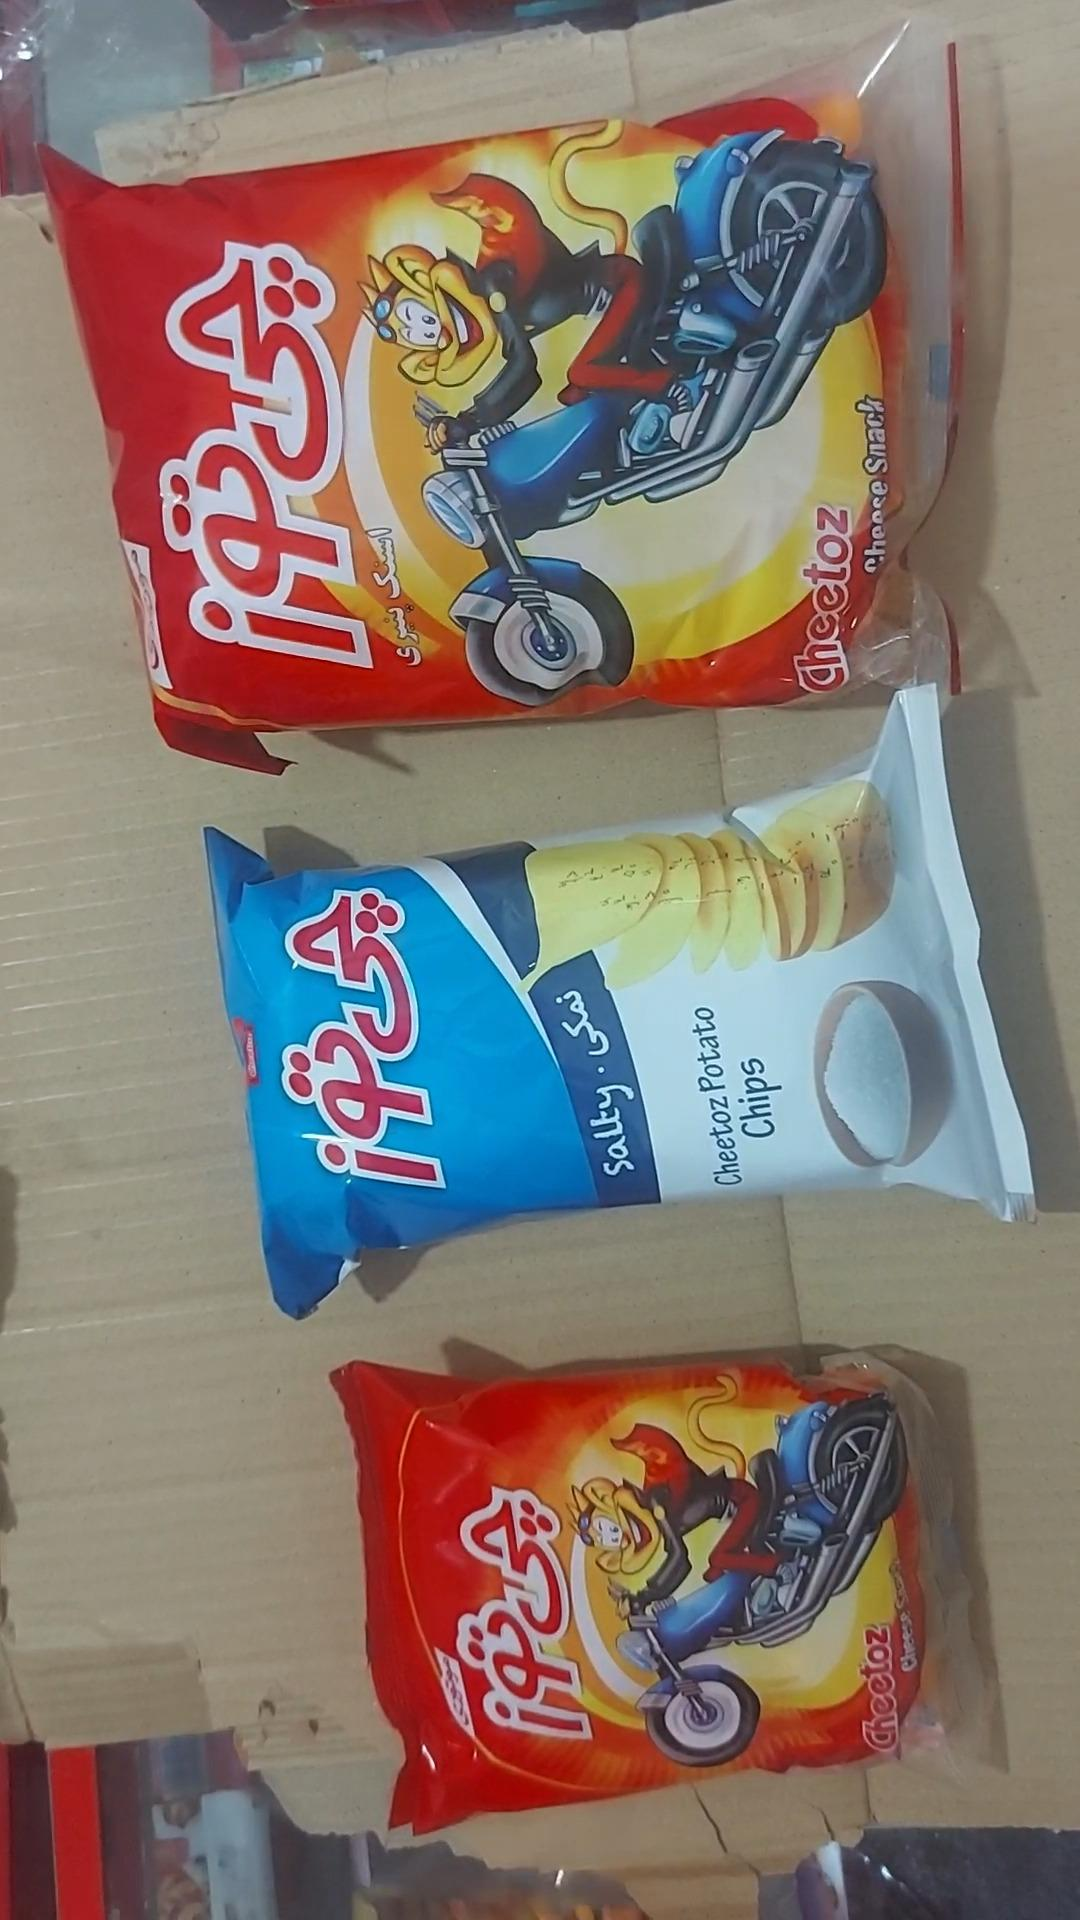Cheetoz salty chips: (202, 686, 1036, 1324)
Cheetoz snack 30g: (327, 1345, 1010, 1851)
Cheetoz snack 90g: (38, 26, 967, 781)
